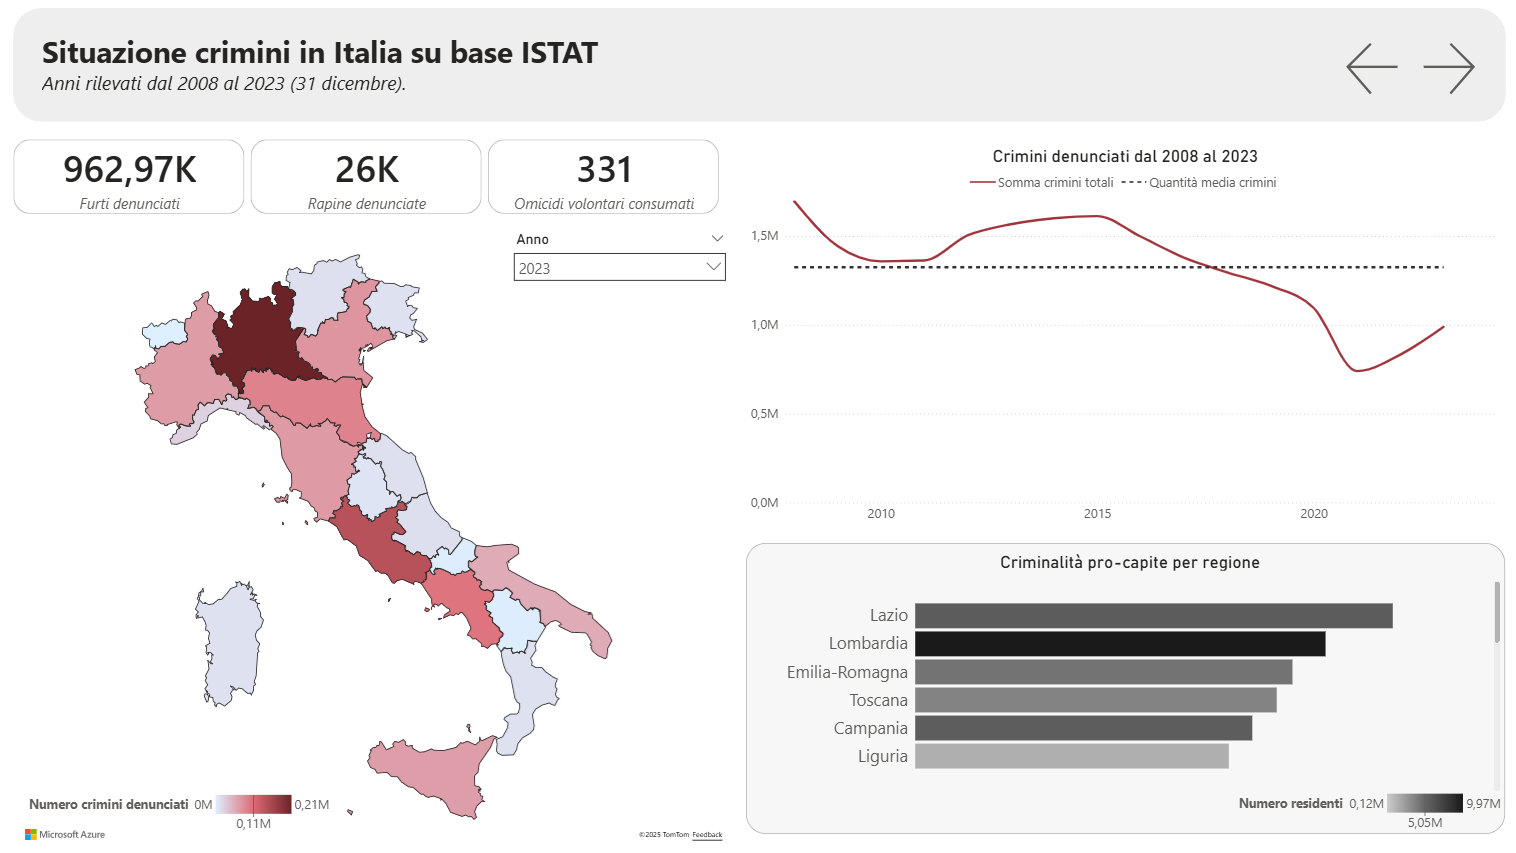

What the dashboard file says about the page in this screenshot:
{"tool":"powerbi","page":{"name":"Crimini","canvas":[1920,1080],"ordinal":2},"visuals":[{"type":"clusteredBarChart","title":"Criminalità pro-capite per regione","fields":{"Category":["unpivot_df_raw.territorio"],"Y":["df_con_predizioni.Crimini pro-capite"]},"box":[944,688,960,368],"z":0},{"type":"shape","box":[16,12,1888,144],"z":1000},{"type":"azureMap","title":"Mappa Popolazione 2024 ","fields":{"Category":["unpivot_df_raw.territorio"]},"box":[16,288,912,784],"z":2000},{"type":"cardVisual","fields":{"Data":["Sum(unpivot_df_raw.furti_denunciati)","Sum(unpivot_df_raw.rapine_denunciate)","Sum(unpivot_df_raw.omicidi_volontari_consumati)"]},"box":[0,160,928,128],"z":3000},{"type":"textbox","box":[48,36,928,96],"z":4000},{"type":"lineChart","title":"Crimini denunciati dal 2008 al 2023","fields":{"Category":["unpivot_df_raw.anno"],"Y":["Sum(unpivot_df_raw.Somma Crimini Totali col)","unpivot_df_raw.Media crimini totali"]},"box":[944,176,960,496],"z":5000},{"type":"actionButton","box":[1792,48,96,80],"z":6000},{"type":"actionButton","box":[1696,48,96,80],"z":7000},{"type":"slicer","fields":{"Values":["unpivot_df_raw.anno"]},"box":[640,288,288,96],"z":8000},{"type":"hundredPercentStackedColumnChart","title":"Mappa Popolazione 2024 ","fields":{"Category":["unpivot_df_raw.territorio"]},"box":[32,752,912,304],"z":10000}]}

Visuals, with their boxes in screenshot pixels (x1, y1, x2, y2), scaled from the page's 1920x1080 canvas onto the 1516x853 screenshot:
"Criminalità pro-capite per regione" clusteredBarChart: crop(745, 543, 1503, 834)
shape: crop(13, 9, 1503, 123)
"Mappa Popolazione 2024 " azureMap: crop(13, 227, 733, 847)
cardVisual - Sum(unpivot_df_raw.furti_denunciati) x Sum(unpivot_df_raw.rapine_denunciate): crop(0, 126, 733, 227)
textbox: crop(38, 28, 771, 104)
"Crimini denunciati dal 2008 al 2023" lineChart: crop(745, 139, 1503, 531)
actionButton: crop(1415, 38, 1491, 101)
actionButton: crop(1339, 38, 1415, 101)
slicer - unpivot_df_raw.anno: crop(505, 227, 733, 303)
"Mappa Popolazione 2024 " hundredPercentStackedColumnChart: crop(25, 594, 745, 834)
